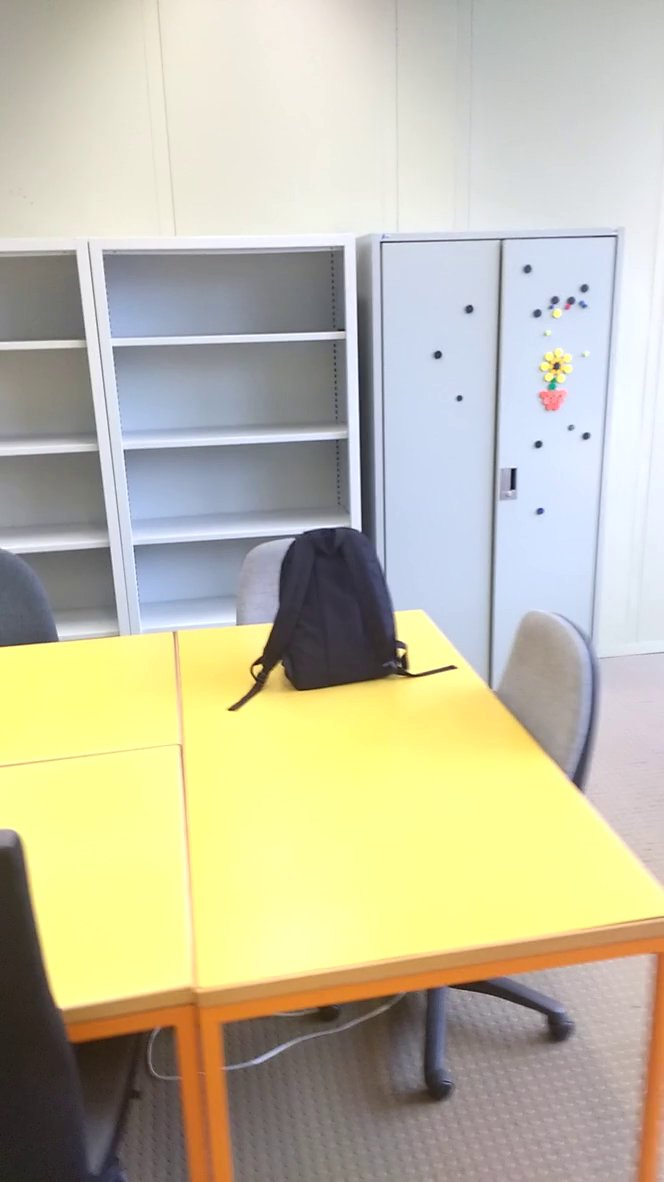bag: (229, 522, 462, 718)
chair: (479, 592, 609, 837)
